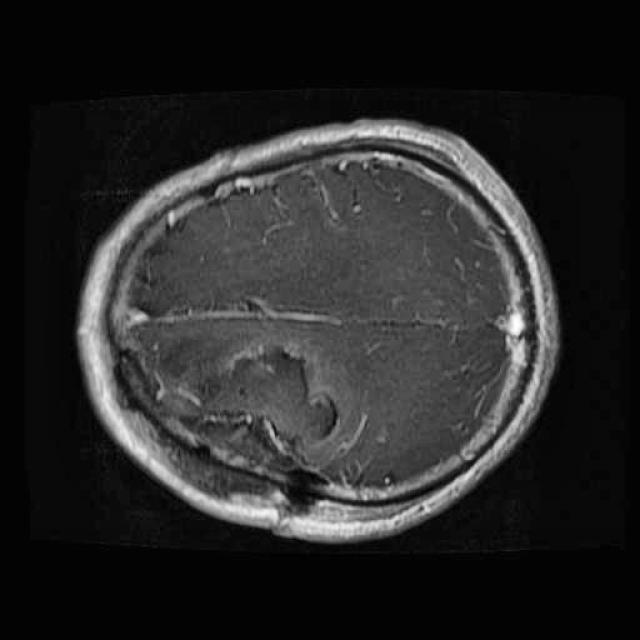Tumor: (170, 322, 356, 487)
